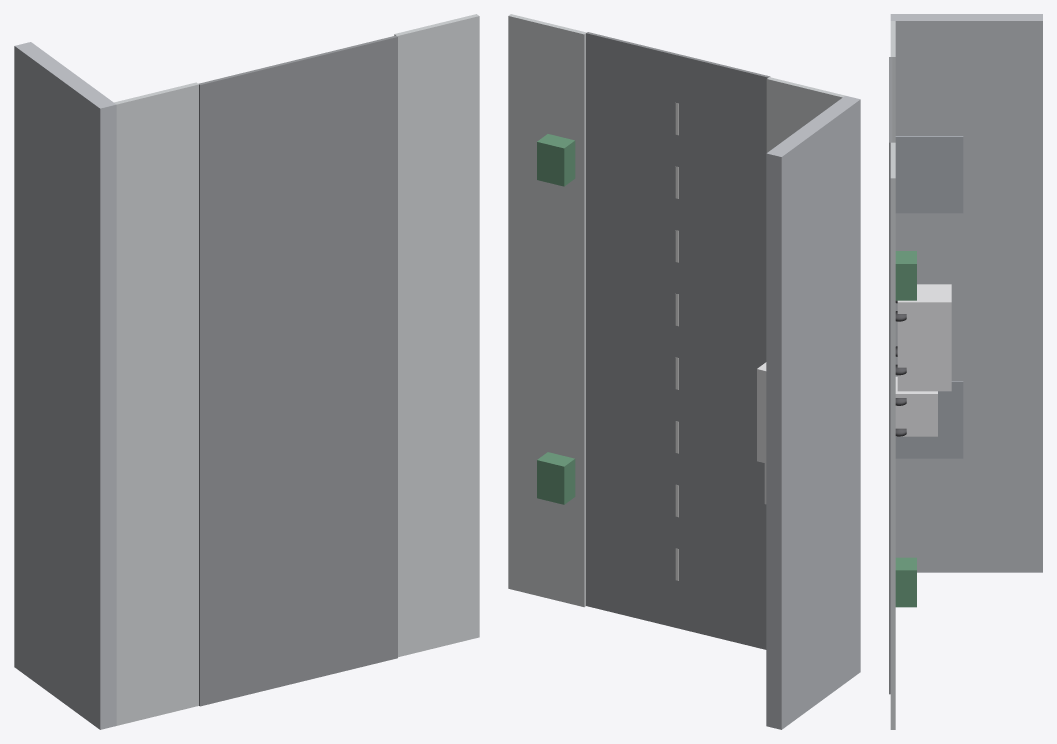
Rendered from industrial_street.glb.
3 renders of one model, left to right at view 1: azimuth 30°, elevation 25°; view 2: azimuth 150°, elevation 25°; view 3: azimuth 270°, elevation 25°, orthographic. The views are drawn at different scales.
Visible parts, largest first — view 1: DarkIndustrialGLB; view 2: DarkIndustrialGLB; view 3: DarkIndustrialGLB.
Part boxes in pixels (bbox=[...]): DarkIndustrialGLB: bbox=[14, 14, 479, 729]; DarkIndustrialGLB: bbox=[508, 14, 860, 729]; DarkIndustrialGLB: bbox=[889, 14, 1042, 729].
Bounding box in the file's own units: 23 × 36 × 9.1.
